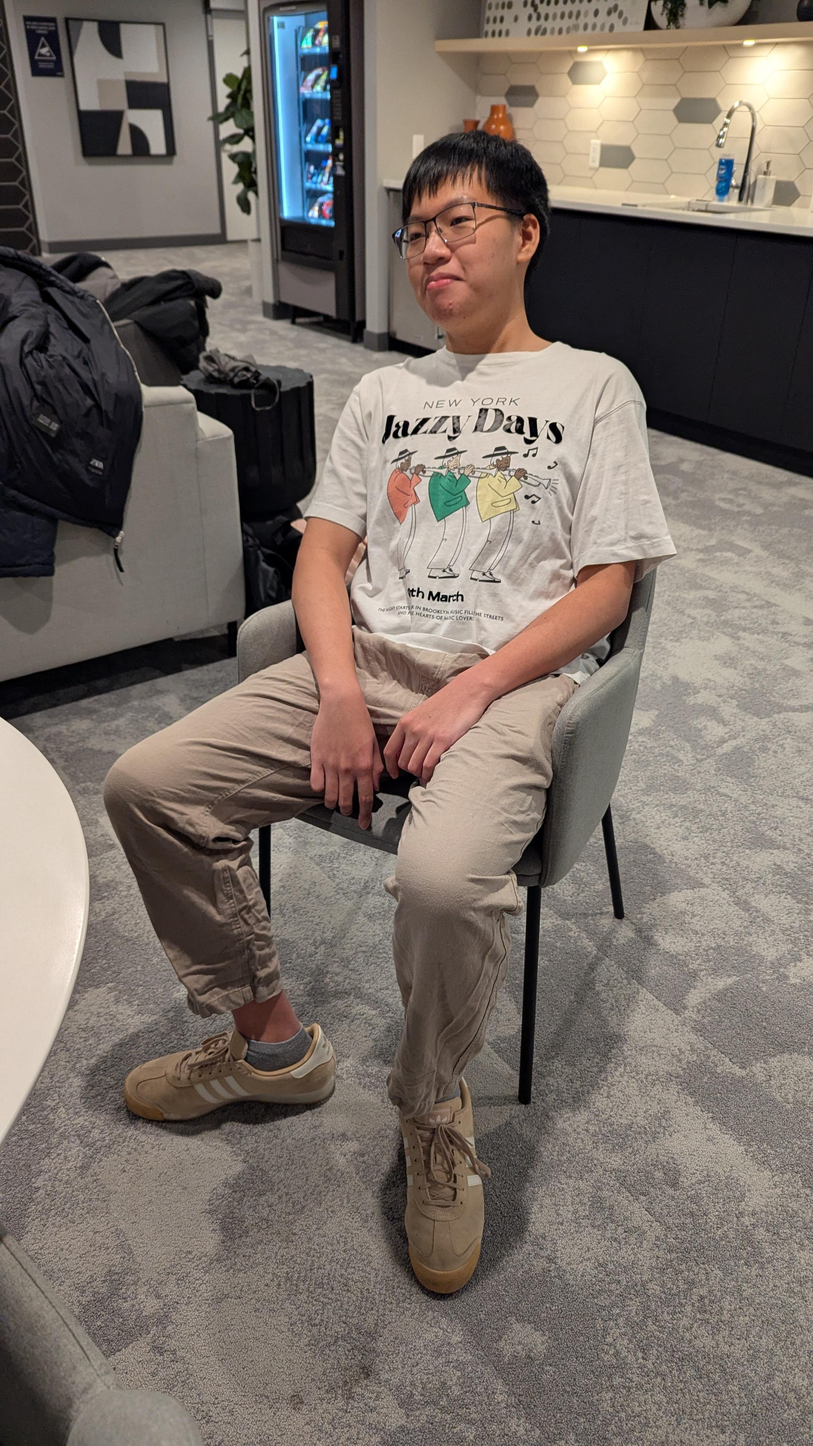BadPosture: (103, 129, 675, 1296)
